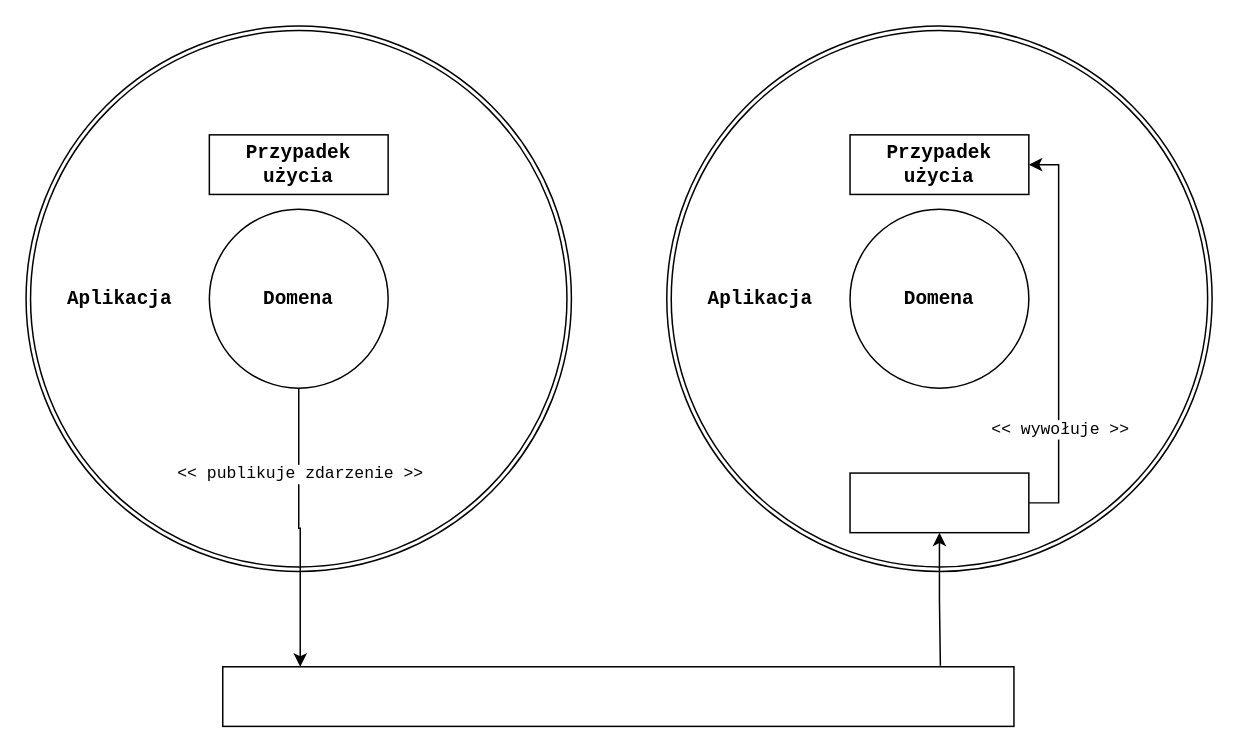
Some shapes in this 1238 by 752 pixel diagram are drawn without their labels. The centre of each missing label's shape, as x and y in pixels:
"Listener" goes at point (939, 502).
"Szyna zdarzeń" goes at point (617, 695).
